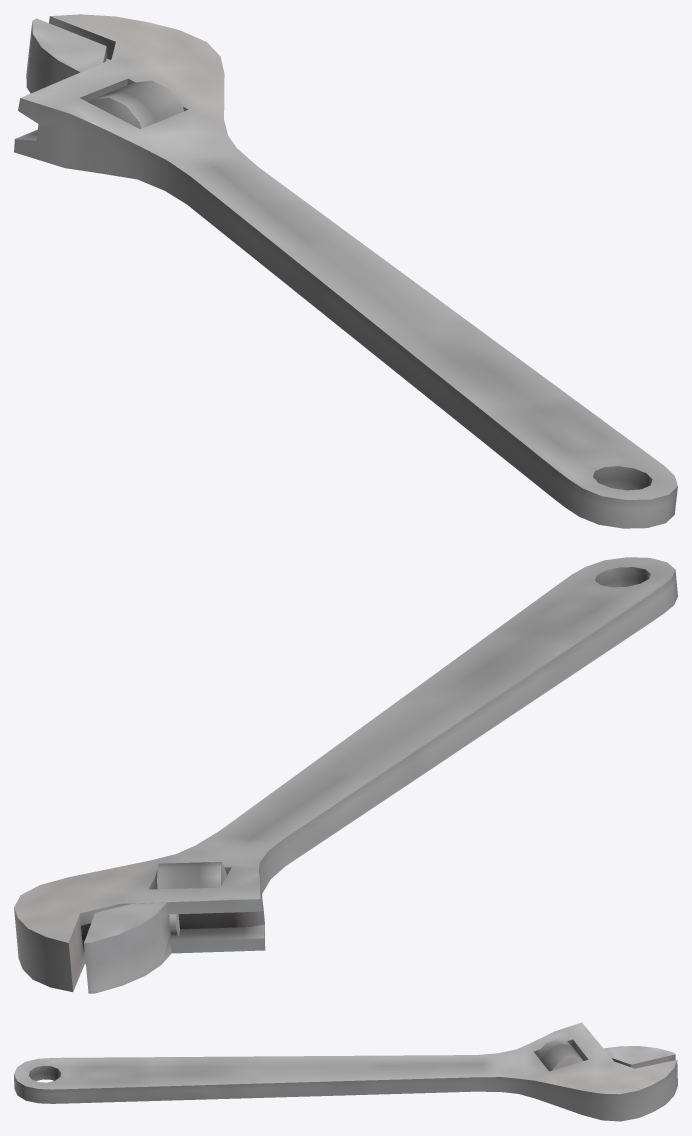
File: SM_Monkwrench_2_closed_160f48.glb
The picture shows the model from 3 angles, top to bottom: view 1: azimuth 30°, elevation 25°; view 2: azimuth 150°, elevation 25°; view 3: azimuth 270°, elevation 25°; orthographic projection. The views are drawn at different scales.
Bounding box in the file's own units: 0.0634 × 0.0209 × 0.2957.
Materials: 1 (1 with a texture image).
